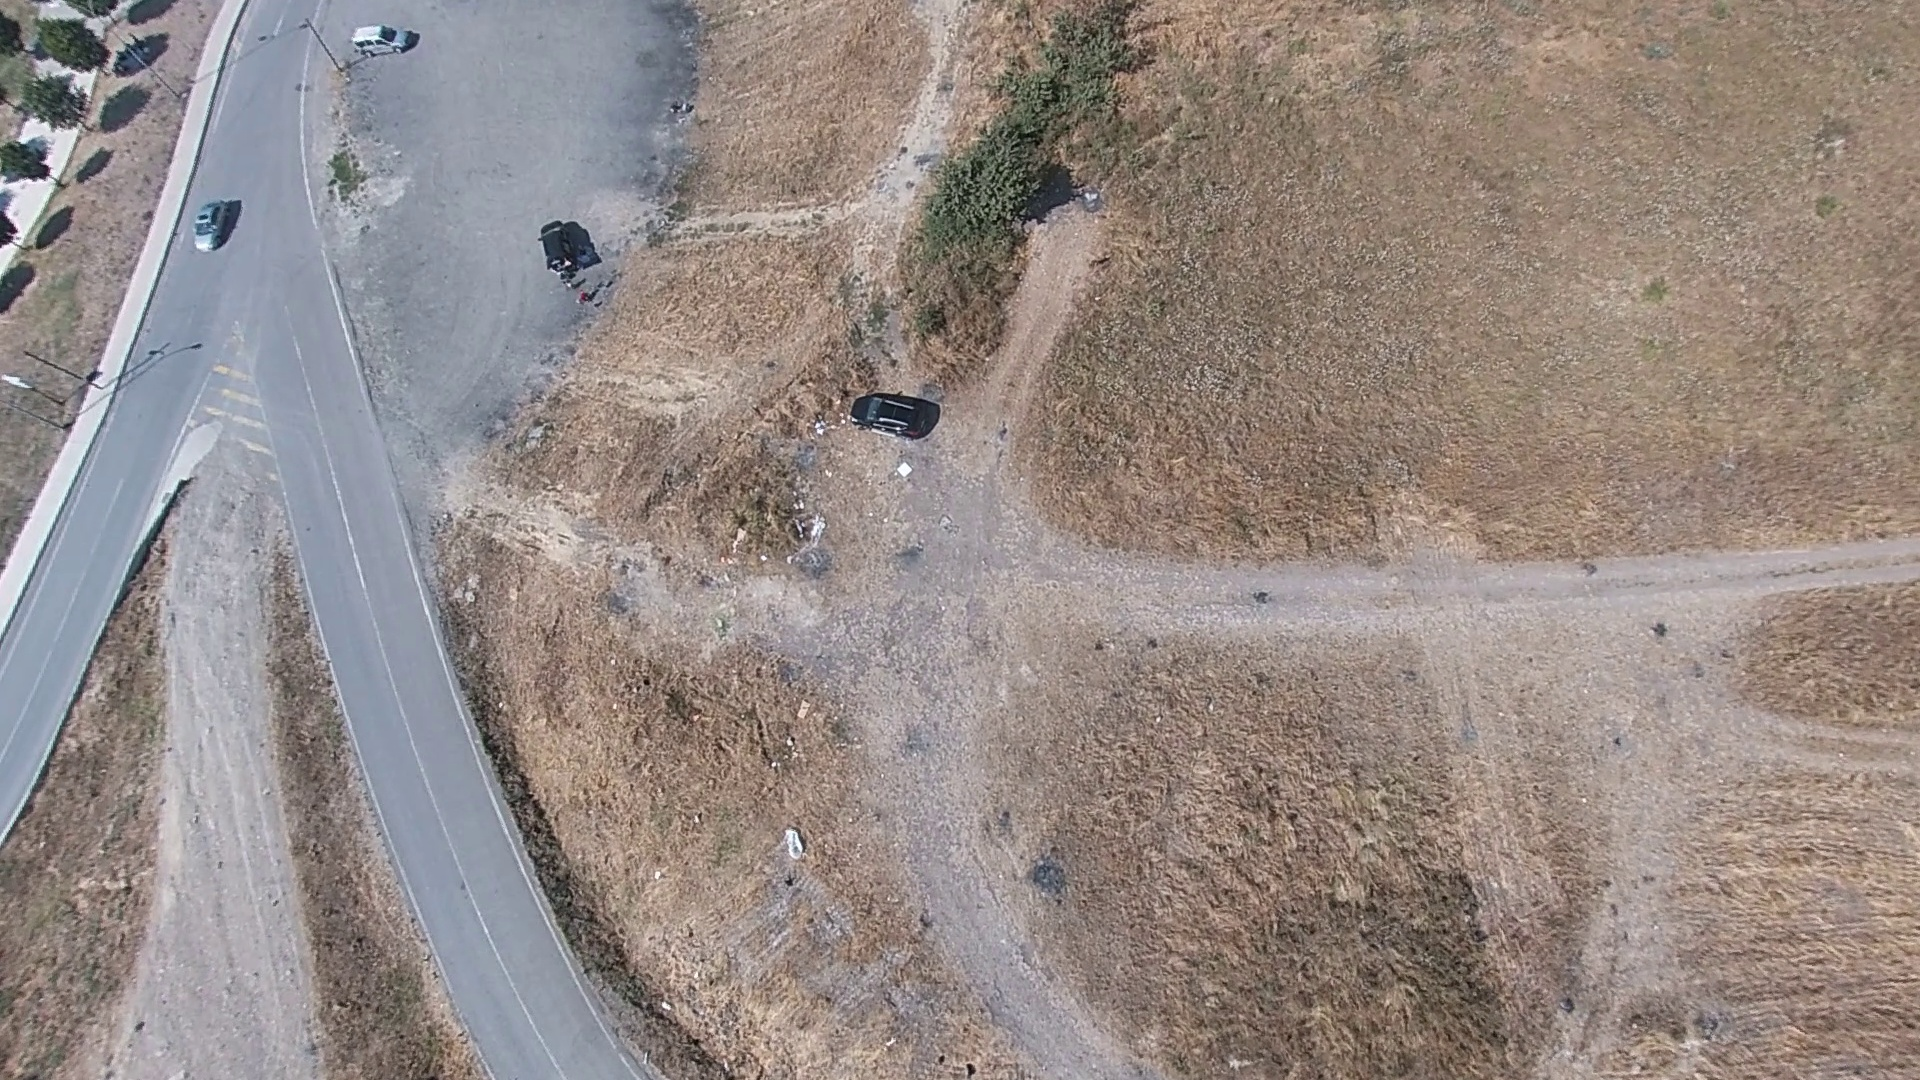arac: (851, 386, 939, 436)
